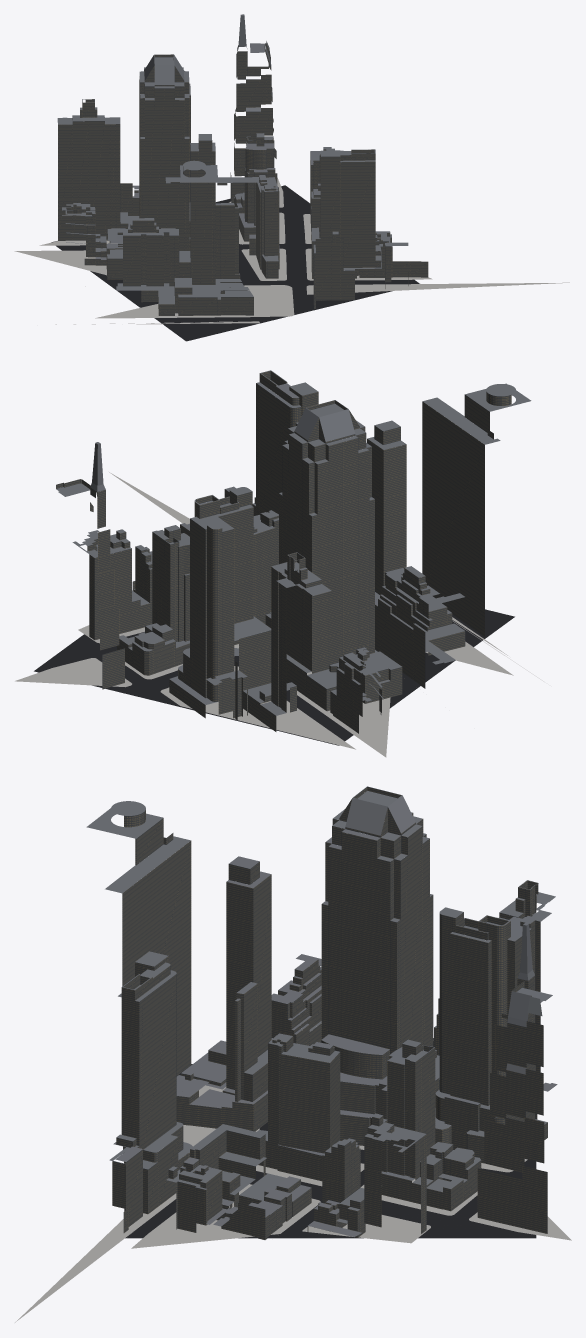
3 views of the same model, one above another, from view 1: azimuth 30°, elevation 25°; view 2: azimuth 150°, elevation 25°; view 3: azimuth 270°, elevation 25° (orthographic). The views are drawn at different scales.
Visible parts, largest first — view 1: t3_4, detail; view 2: t3_4, detail; view 3: t3_4, detail.
Boxes of the visible parts, x1,y1,x2,y2 form: t3_4: (51,14,428,341); detail: (14,177,569,324); t3_4: (34,370,531,745); detail: (15,472,543,757); t3_4: (86,786,557,1239); detail: (15,1085,571,1322).
Bounding box in the file's own units: 478 × 211 × 339.
Materials: 4 (2 with a texture image).
